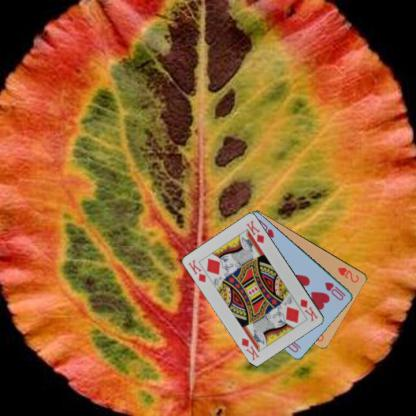10h: (323, 280, 348, 302)
2h: (335, 264, 361, 284)
Kd: (298, 296, 320, 323), (186, 257, 208, 284)
